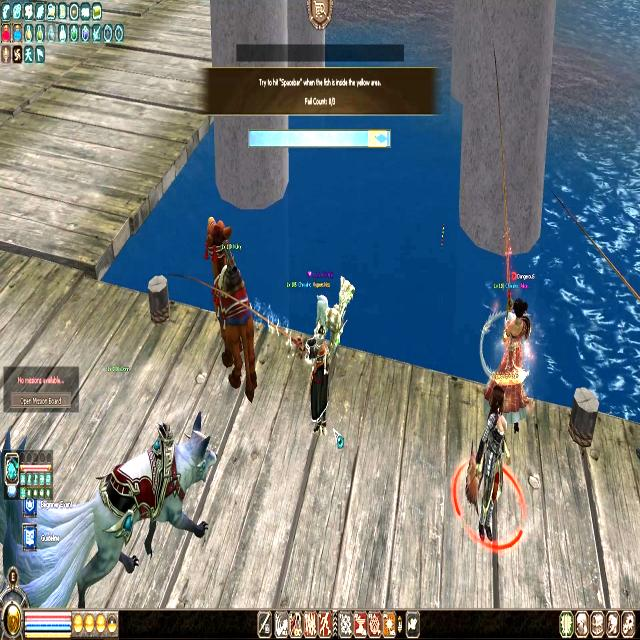fishes: (373, 132, 388, 145)
